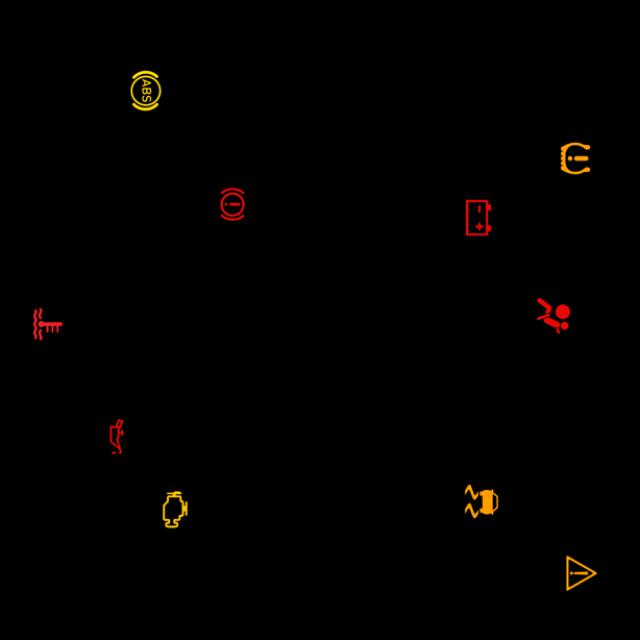Anti Lock Braking System: (124, 68, 168, 112)
Braking System Issue: (210, 182, 254, 226)
Charging System Issue: (456, 196, 501, 240)
Check Engine: (153, 488, 197, 532)
Electronic Stability Problem -ESP-: (459, 479, 504, 524)
Engine Overheating Warning Light: (26, 302, 70, 346)
Low Engine Oil Warning Light: (94, 414, 138, 458)
Low Tire Pressure Warning Light: (554, 136, 598, 180)
Master warning light: (560, 552, 604, 596)
SRS-Airbag: (532, 294, 576, 338)
